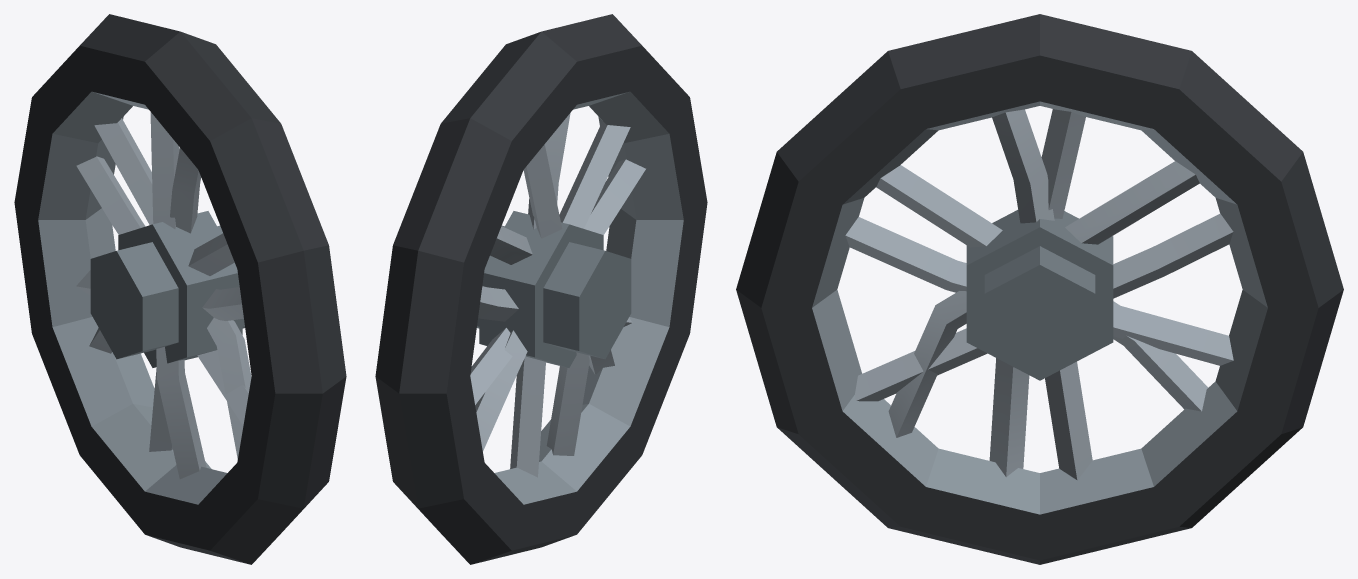
The model's file is SM_Prop_Cart_Metal_Wheel_r.fbx.
3 renders of one model, left to right at view 1: azimuth 30°, elevation 25°; view 2: azimuth 150°, elevation 25°; view 3: azimuth 270°, elevation 25°, orthographic. The views are drawn at different scales.
Parts seen in each view (by area): view 1: SM_Prop_Cart_Metal_Wheel_r; view 2: SM_Prop_Cart_Metal_Wheel_r; view 3: SM_Prop_Cart_Metal_Wheel_r.
Part boxes in pixels (<box>): SM_Prop_Cart_Metal_Wheel_r: <box>14,14,346,564</box>; SM_Prop_Cart_Metal_Wheel_r: <box>375,14,707,564</box>; SM_Prop_Cart_Metal_Wheel_r: <box>736,14,1343,564</box>.
Size of the model in its own units: 17.76 by 68.5 by 68.5.
